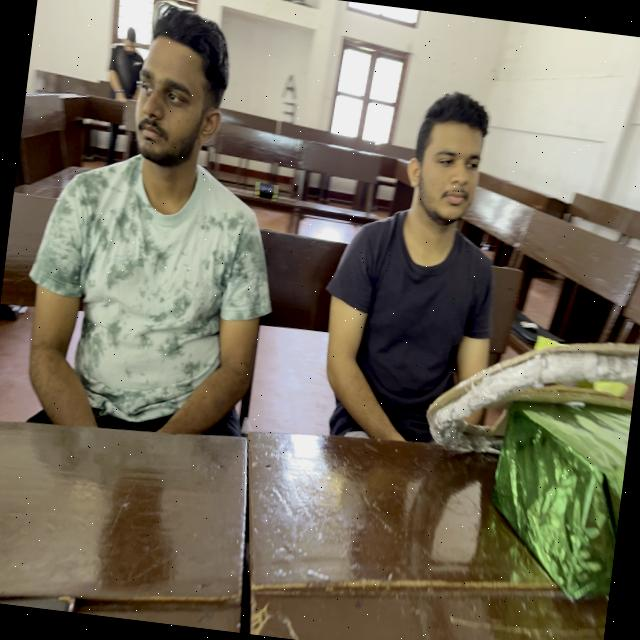Helmet: (10, 152, 281, 480), (311, 220, 509, 479)
